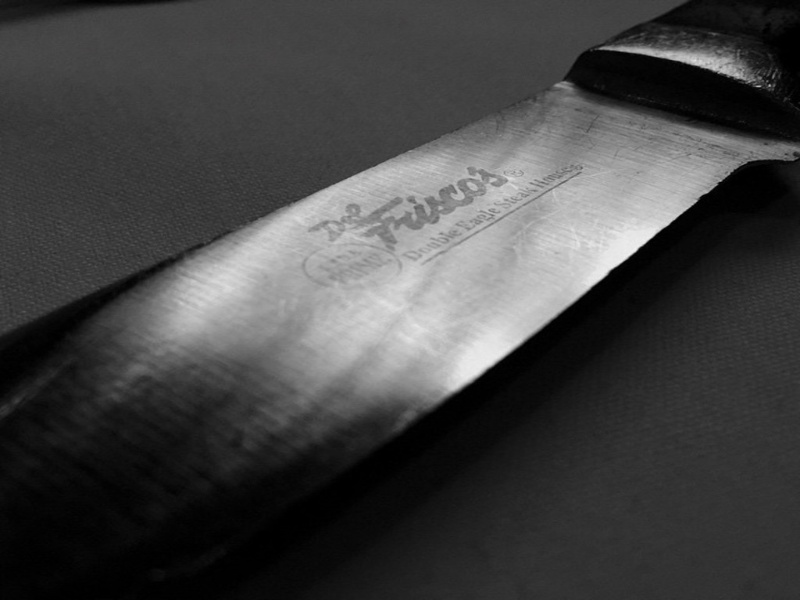knife: (5, 43, 800, 597)
